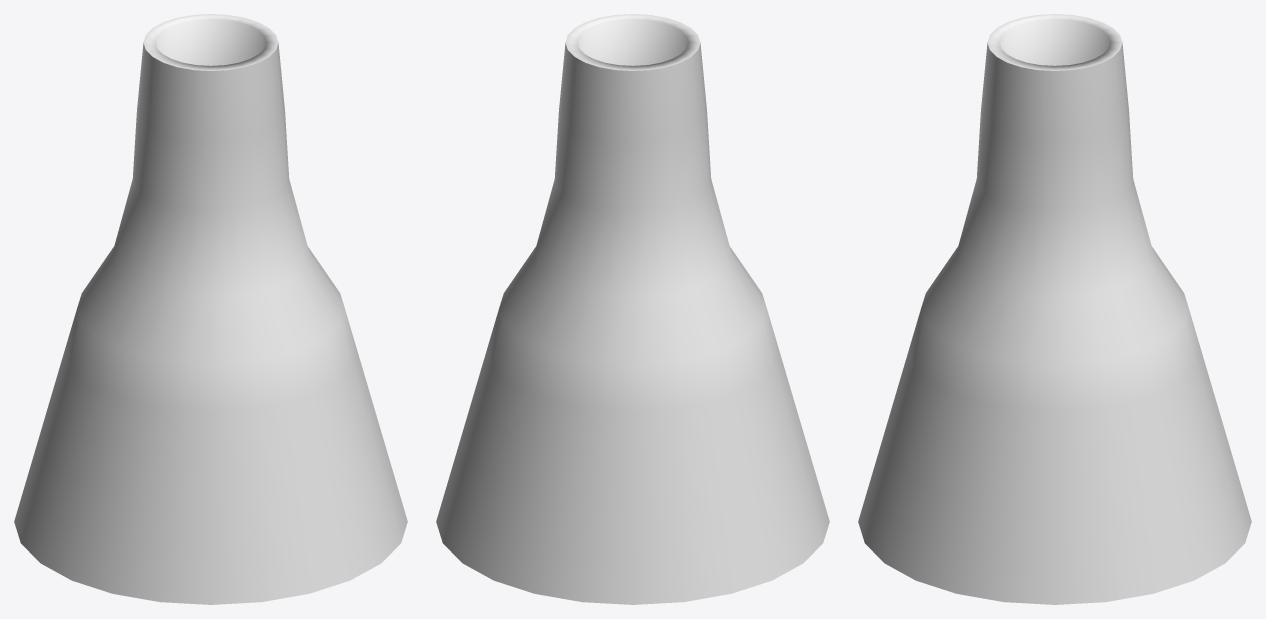
Rendered from Lab.FBX.
3 renders of one model, left to right at view 1: azimuth 30°, elevation 25°; view 2: azimuth 150°, elevation 25°; view 3: azimuth 270°, elevation 25°, orthographic.
Parts seen in each view (by area): view 1: Cone001; view 2: Cone001; view 3: Cone001.
Part boxes in pixels (x1,y1,x2,y2): Cone001: [14, 14, 407, 604]; Cone001: [436, 14, 829, 604]; Cone001: [858, 14, 1251, 604].
Bounding box in the file's own units: 41.97 × 56.36 × 41.97.
Materials: 2 (2 with a texture image).
